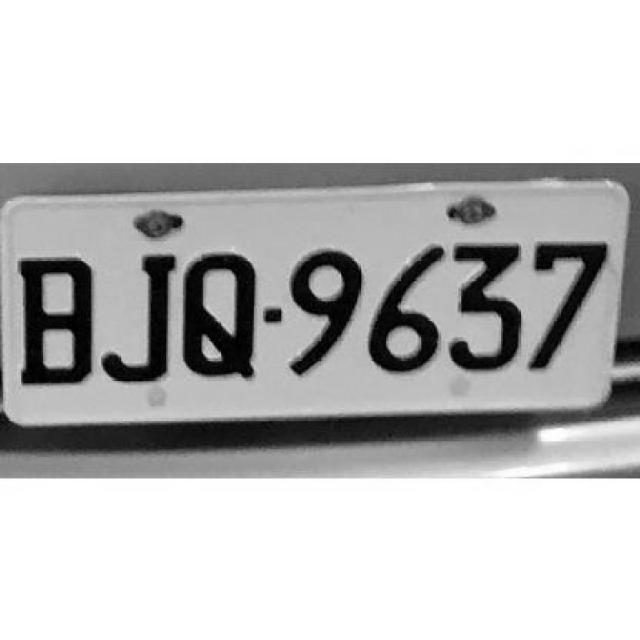-: (262, 303, 282, 325)
3: (449, 240, 522, 374)
6: (366, 242, 445, 380)
9: (286, 244, 359, 376)
B: (17, 249, 97, 386)
J: (98, 249, 176, 388)
Q: (180, 246, 254, 383)
Z: (530, 240, 608, 368)
